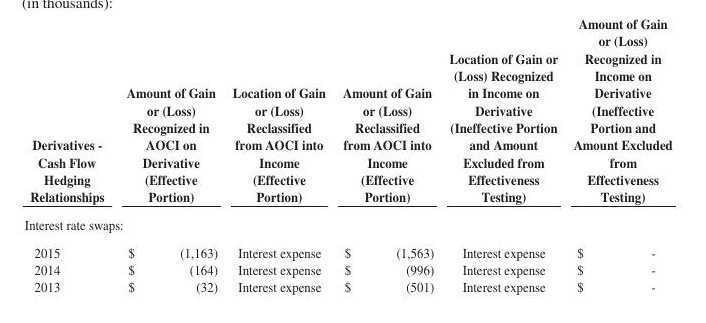table: (0, 0, 706, 323)
